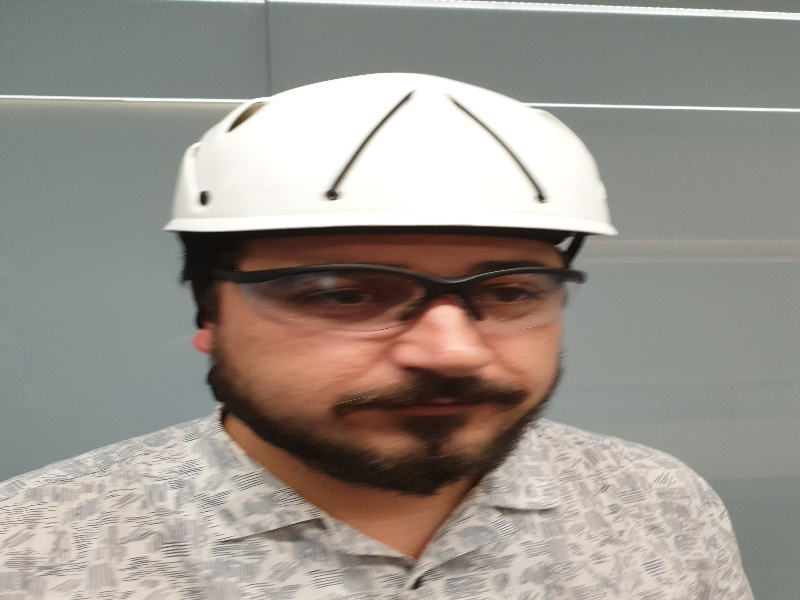Baret: (163, 73, 616, 241)
Gozluk: (212, 265, 582, 337)
